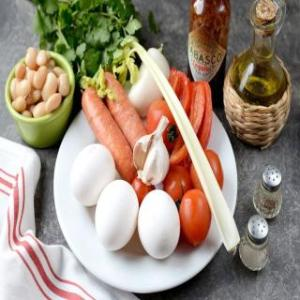carrot: (80, 82, 138, 186), (97, 66, 149, 150)
egg: (94, 179, 140, 257), (138, 187, 182, 267), (68, 142, 118, 209)
garlic: (130, 113, 170, 184)
tomato: (178, 189, 216, 254)
